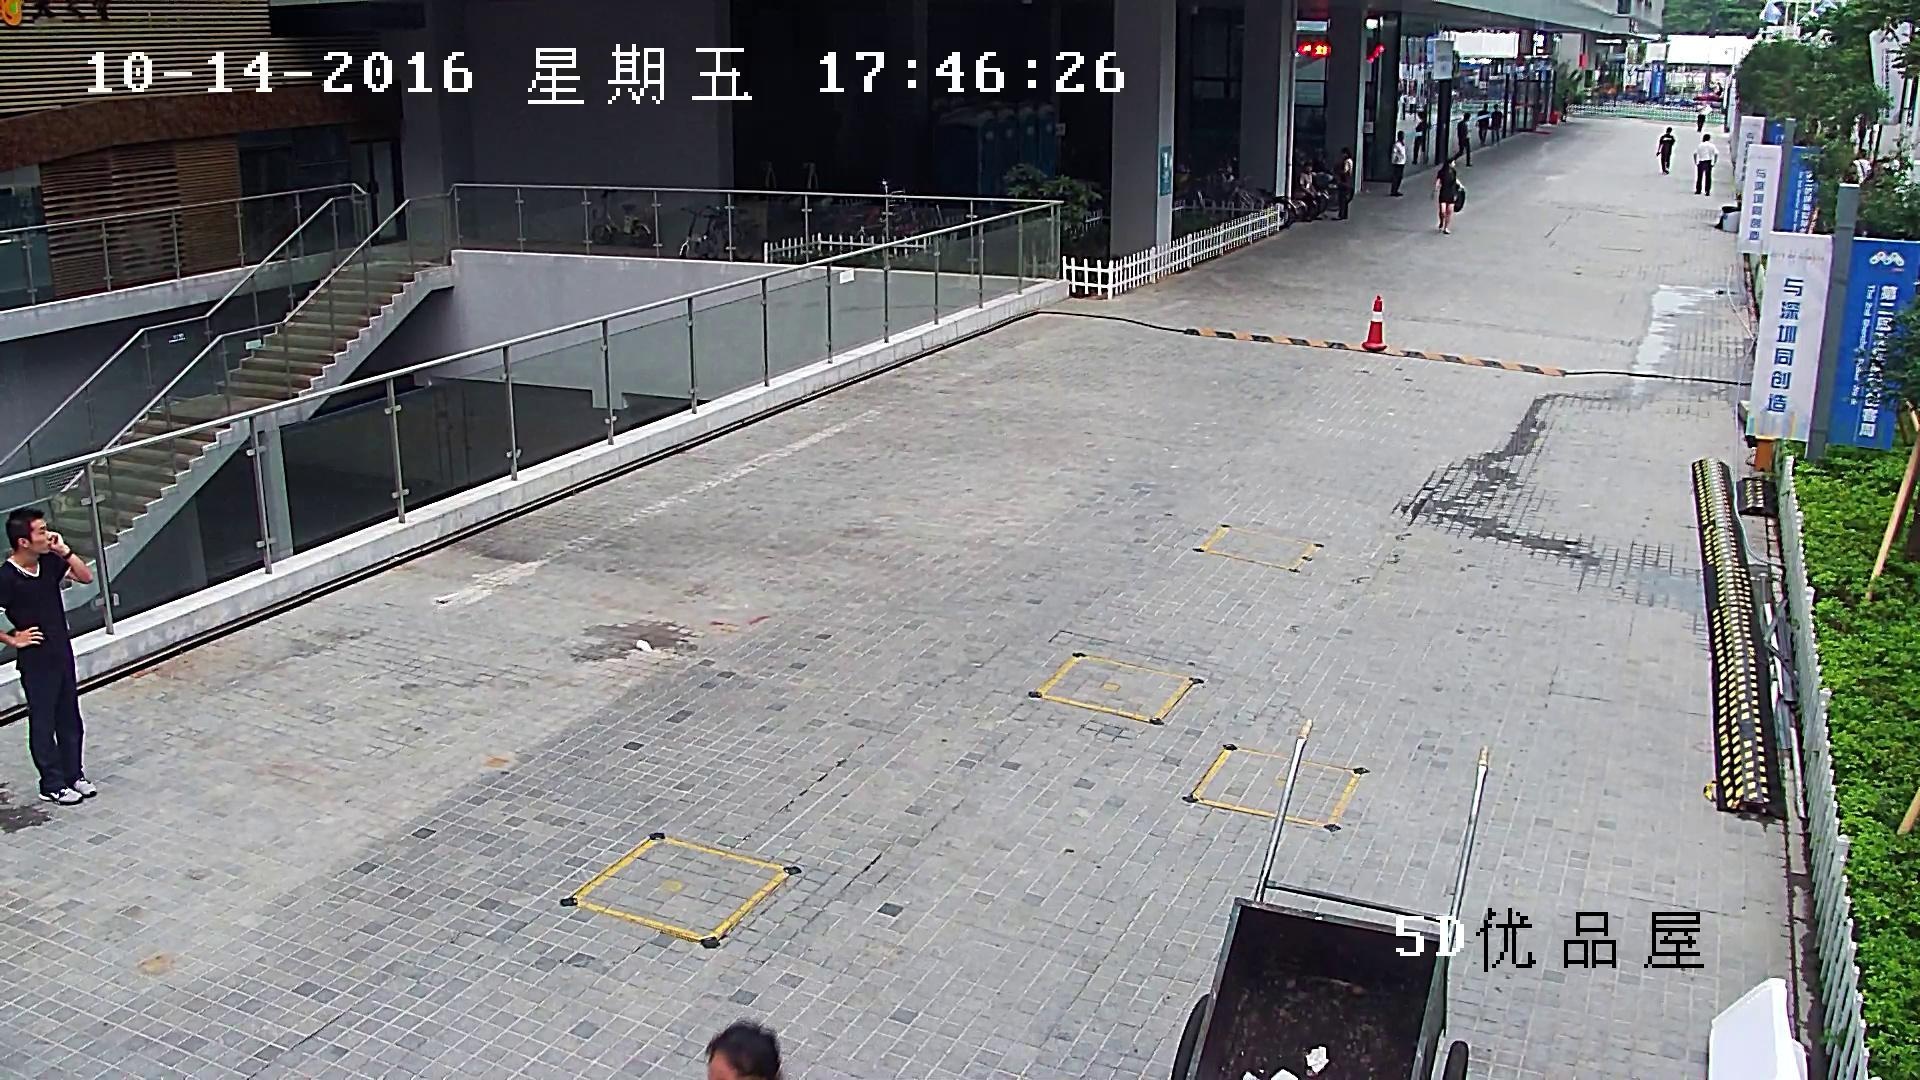person: (0, 507, 98, 804), (1435, 158, 1466, 233), (1331, 147, 1355, 220), (1693, 133, 1718, 196), (1299, 162, 1324, 222), (1389, 129, 1407, 196), (1454, 112, 1474, 167), (1411, 111, 1428, 165), (1848, 148, 1873, 184), (1656, 127, 1675, 175), (1475, 102, 1490, 146), (1489, 103, 1503, 145), (1695, 100, 1706, 132)
